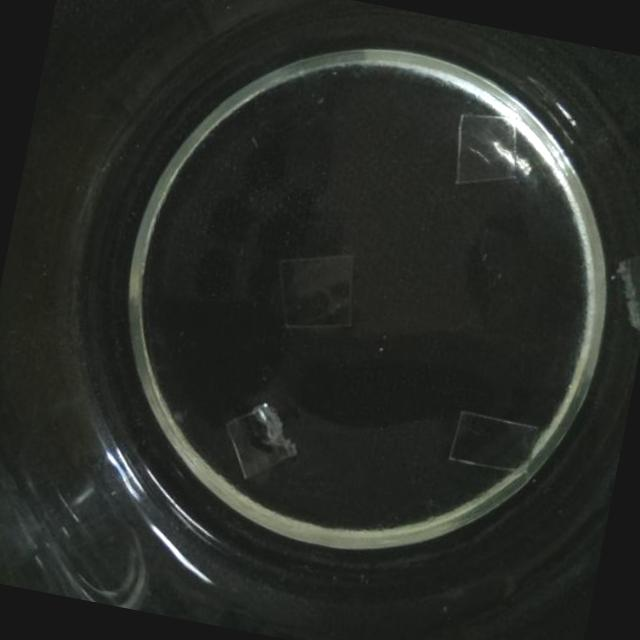fiber: (260, 237, 366, 342), (210, 391, 308, 491), (442, 405, 542, 483), (444, 108, 530, 198), (604, 237, 640, 336)
